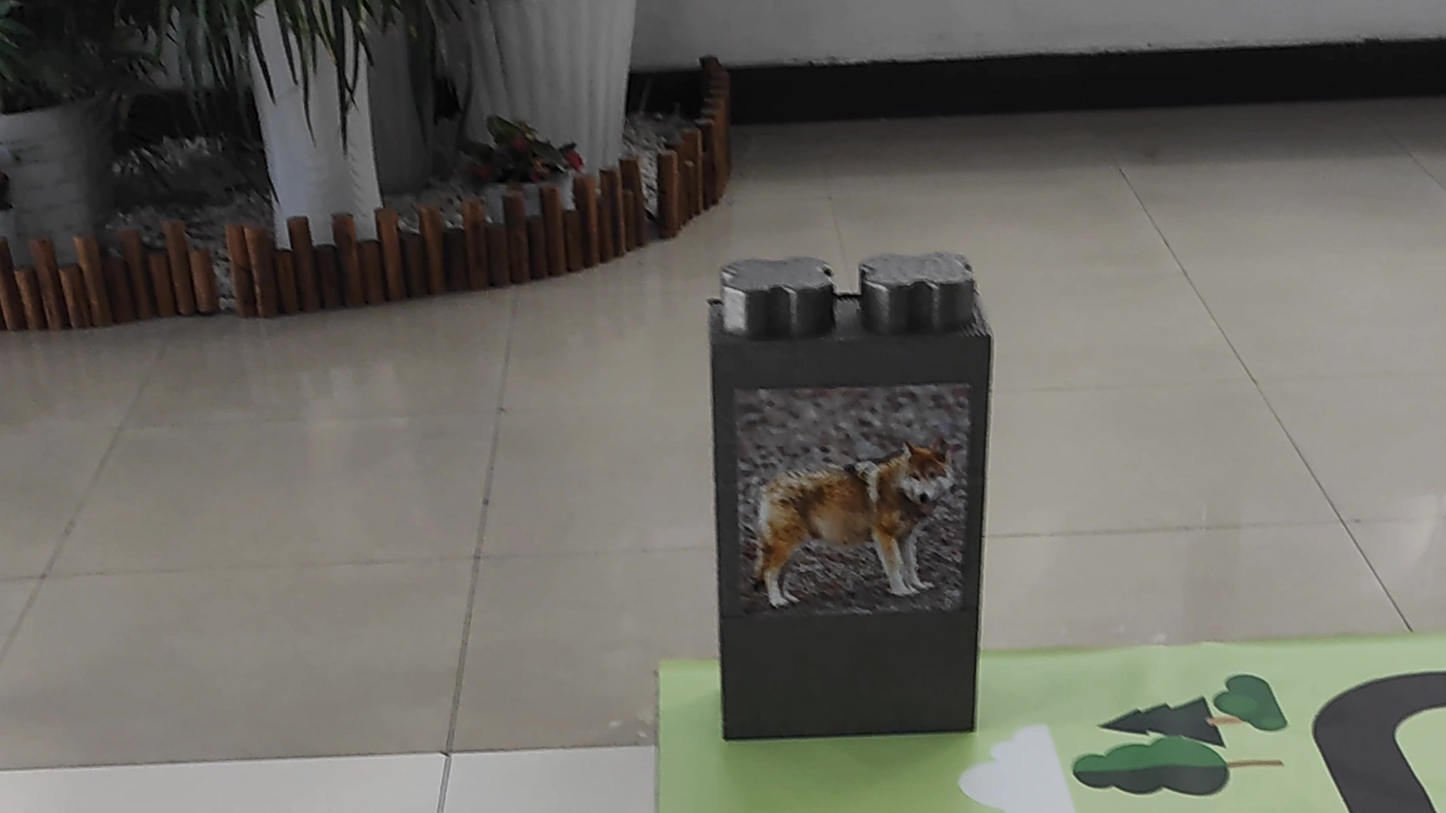wolf: (738, 391, 966, 600)
